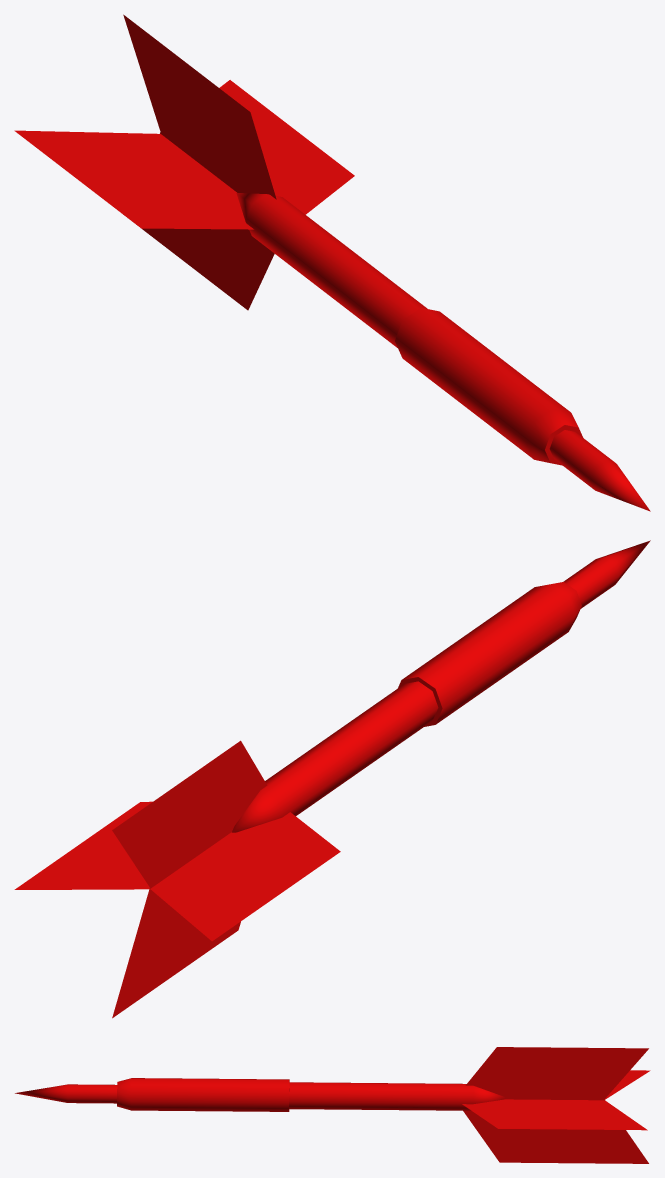
The model's file is Dart.fbx.
3 views of the same model, one above another, from view 1: azimuth 30°, elevation 25°; view 2: azimuth 150°, elevation 25°; view 3: azimuth 270°, elevation 25° (orthographic). The views are drawn at different scales.
Visible parts, largest first — view 1: dart; view 2: dart; view 3: dart.
Part boxes in pixels (box(x1,y1,x2,y2)): dart: box(14, 14, 650, 511); dart: box(14, 540, 650, 1018); dart: box(15, 1047, 650, 1163).
Bounding box in the file's own units: 2.48 × 2.17 × 10.84.
